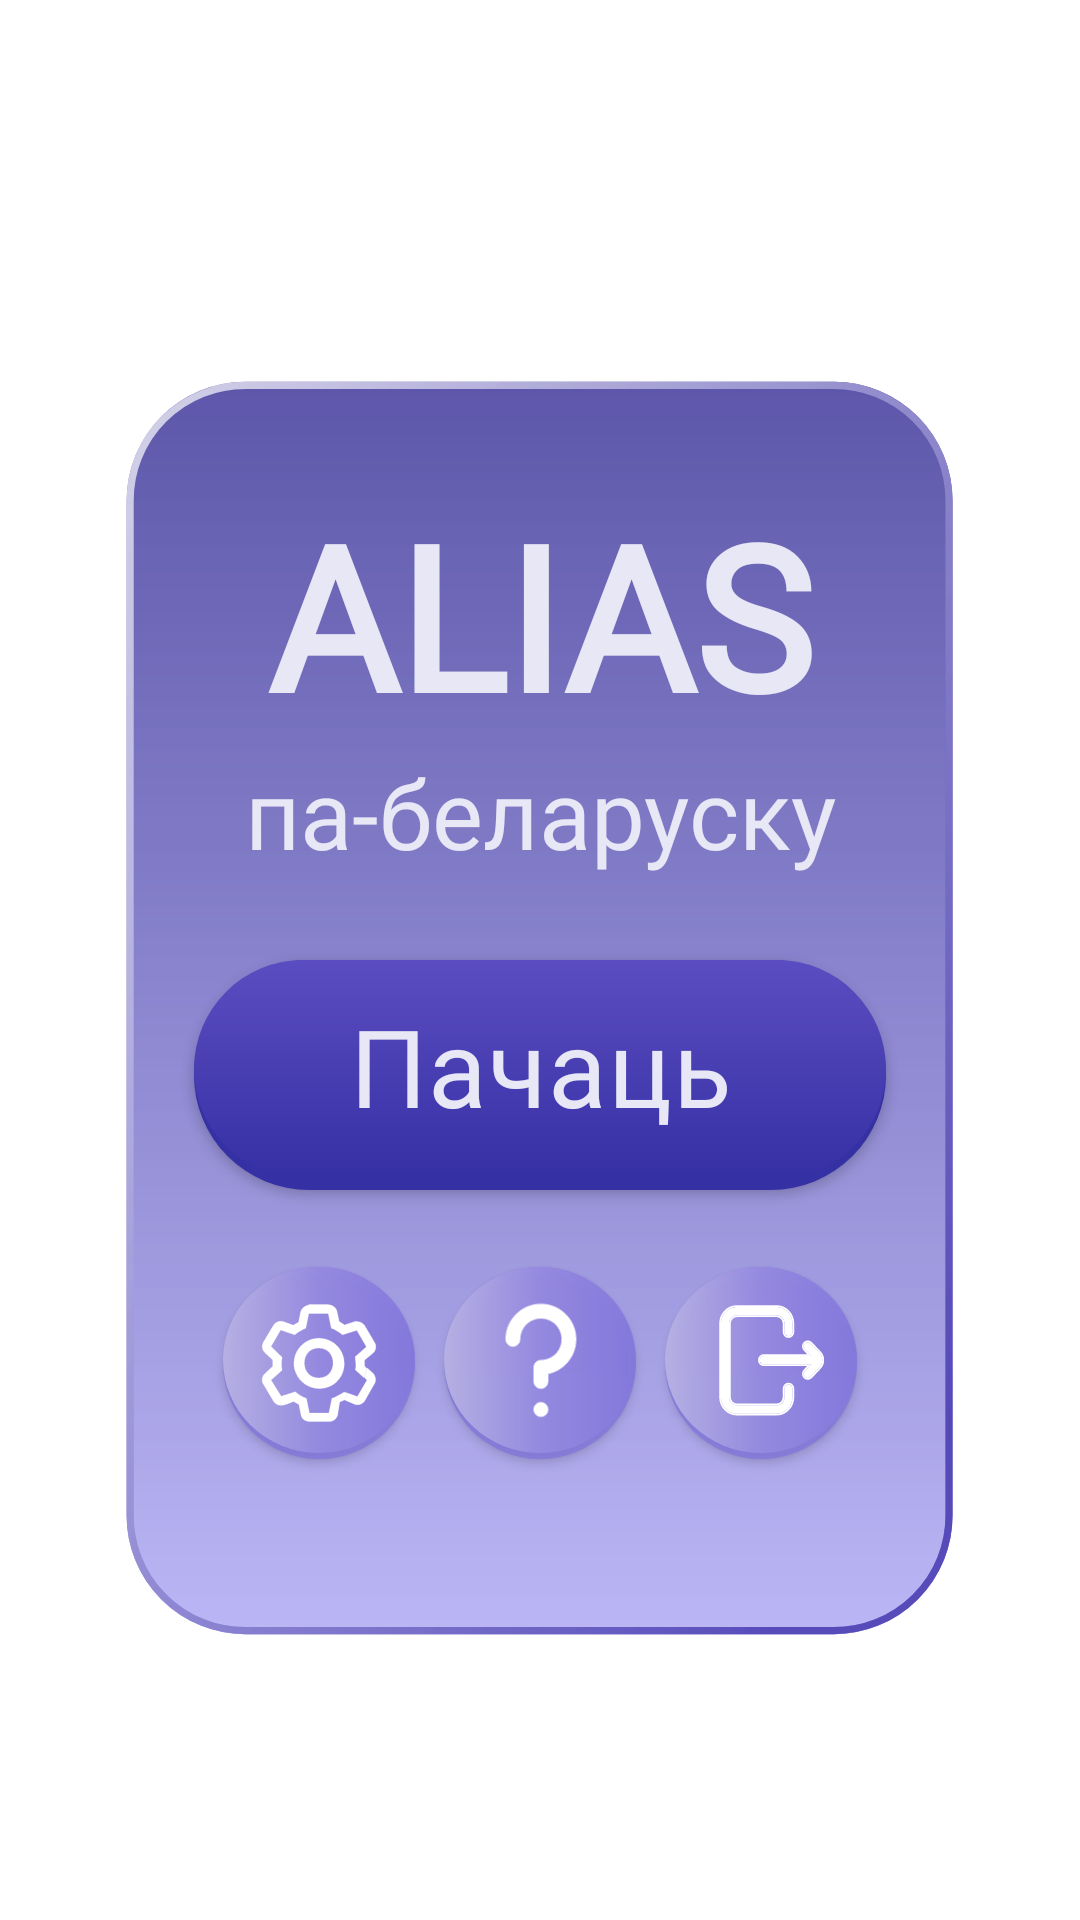

Icon bounding boxes for this 1080x1920 phone screenshot, format bbox=(x1, y1, x2, y2):
exit: bbox=(665, 1267, 857, 1459)
info: bbox=(444, 1267, 636, 1459)
settings: bbox=(223, 1267, 415, 1459)
